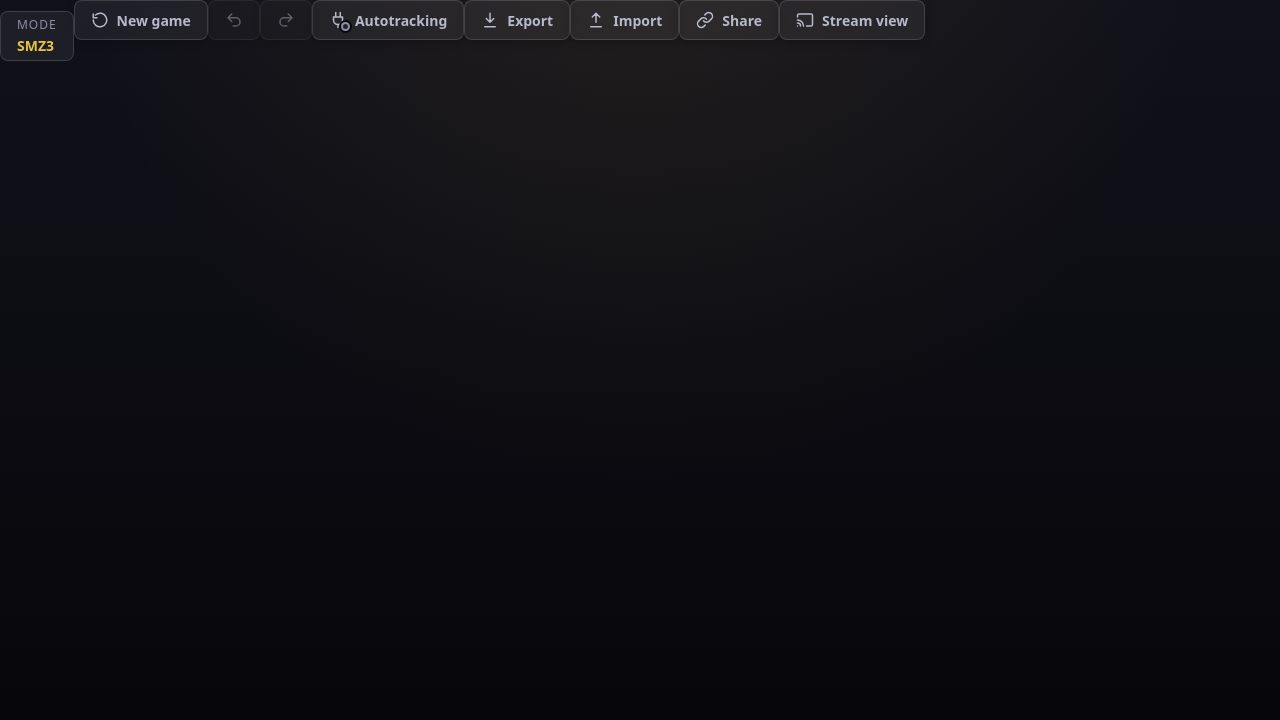
Test: the SMZ3 toolbar › when the clipboard refuses the stream view's address › selects it and copies it with the older command
Click the button with test id "smz3-stream-view" at (852, 20), box [779, 0, 925, 40]
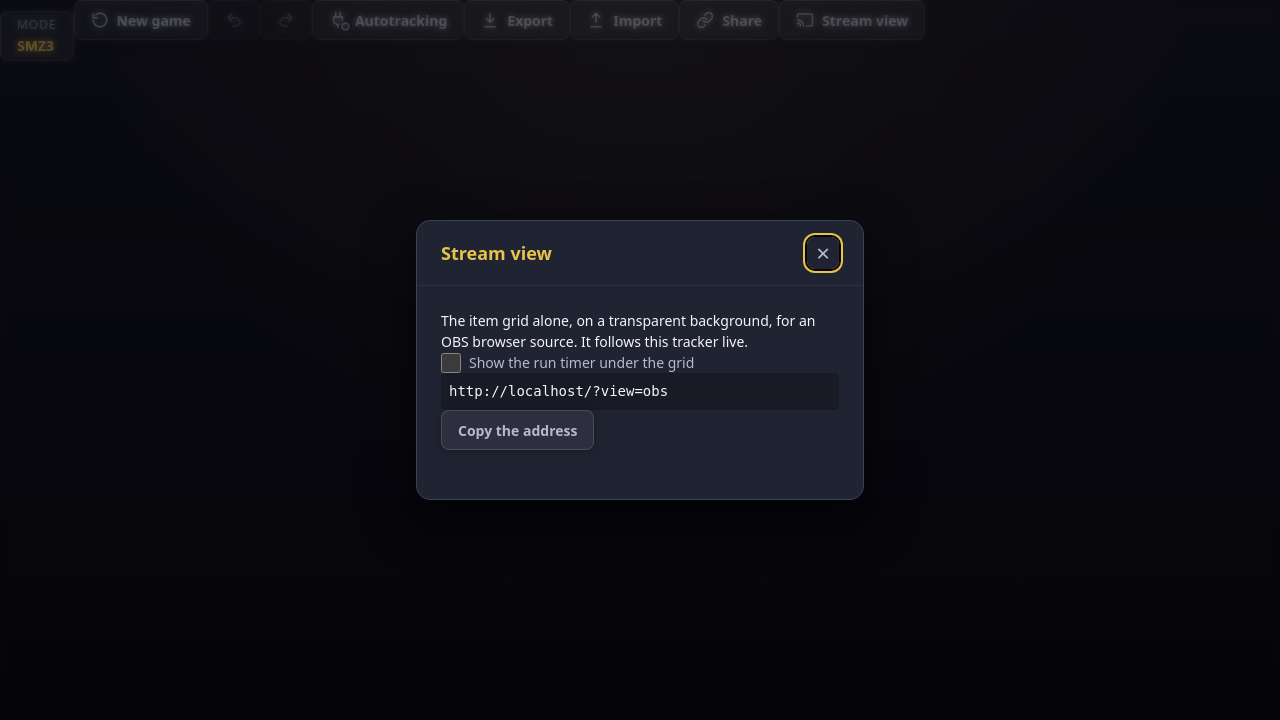
Click the button "Copy the address" at (518, 430), box [441, 410, 594, 450]
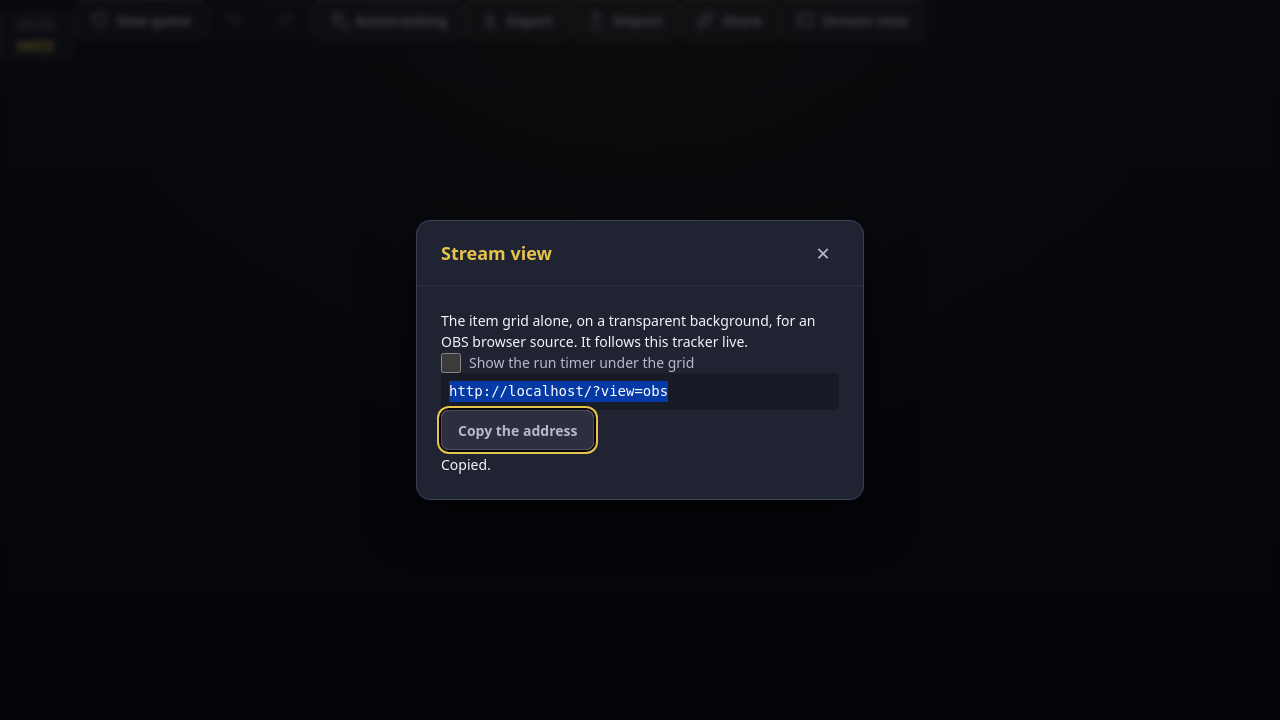
Check: the text "Copied." is shown, box [441, 455, 491, 474]
